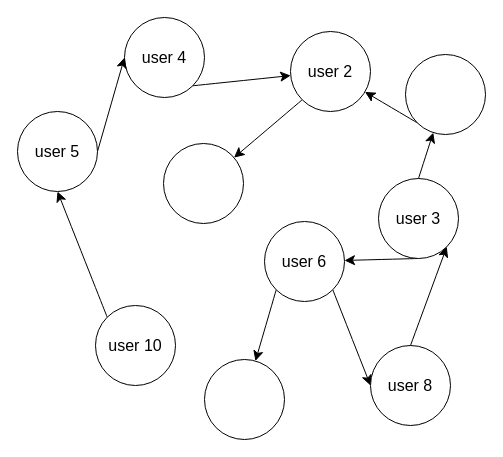
Some shapes in this 503 by 457 pixel diagram are drawn without their labels. Here are the shapes that lost their labels. From the top down, the centre of each, then its label:
[445,94]: user 1
[203,183]: user 9
[244,399]: user 7
